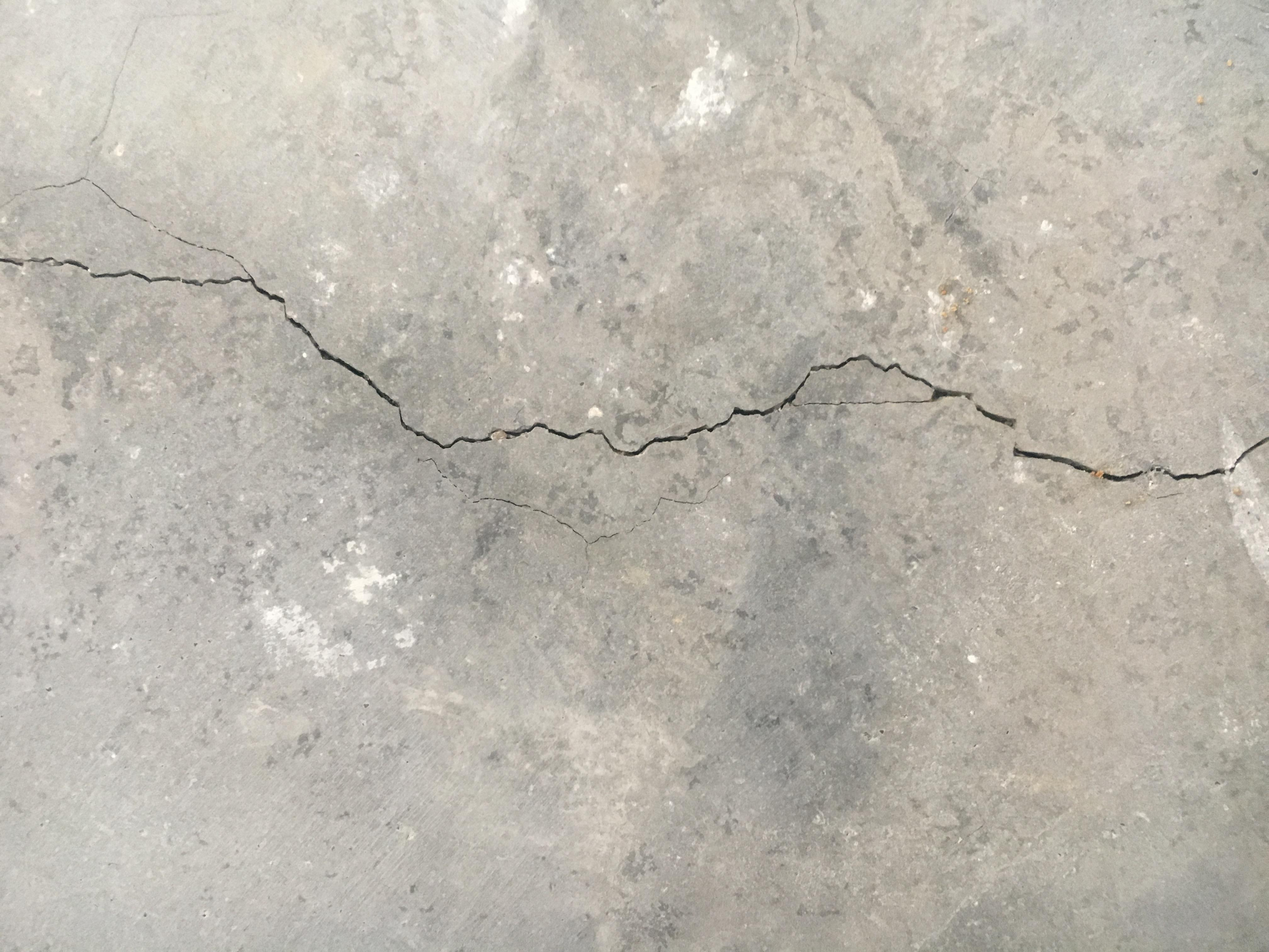Horizontal Settlement Crack: (3, 172, 1263, 550)
